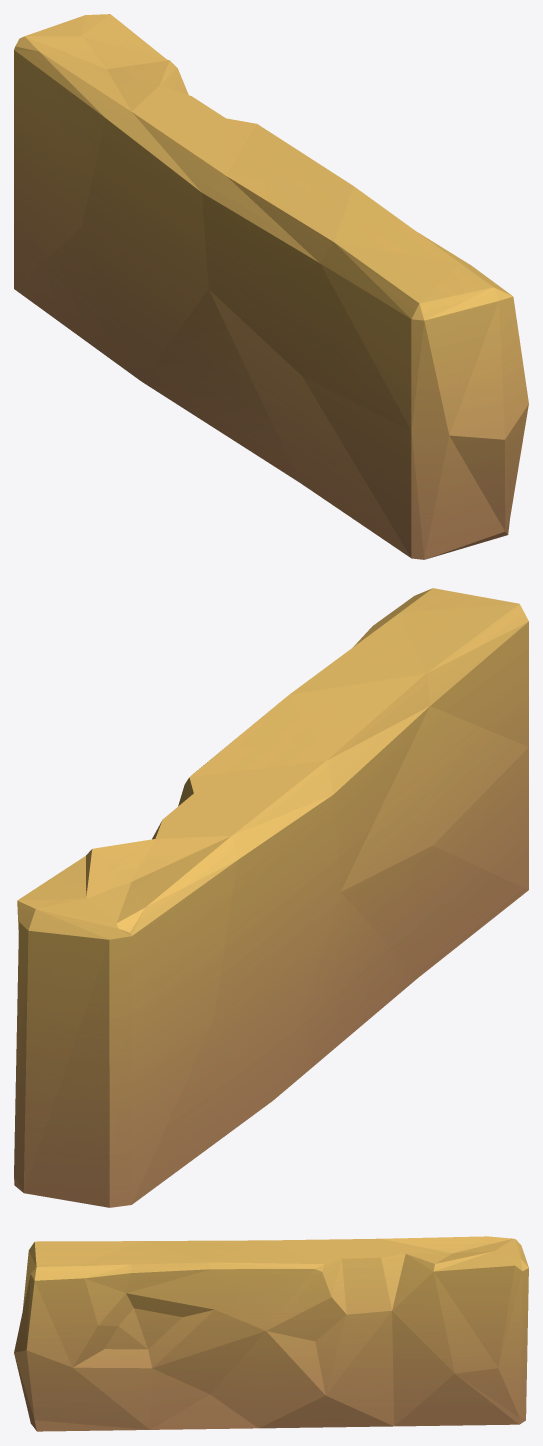
The picture shows the model from 3 angles, top to bottom: view 1: azimuth 30°, elevation 25°; view 2: azimuth 150°, elevation 25°; view 3: azimuth 270°, elevation 25°; orthographic projection. The views are drawn at different scales.
Visible parts, largest first — view 1: OldWall2; view 2: OldWall2; view 3: OldWall2.
Boxes of the visible parts, box(x1,y1,x2,y2) form: OldWall2: box(14, 14, 528, 559); OldWall2: box(14, 588, 528, 1207); OldWall2: box(14, 1236, 528, 1431).
Size of the model in its own units: 38.71 by 69.7 by 200.
Materials: 1 (1 with a texture image).
